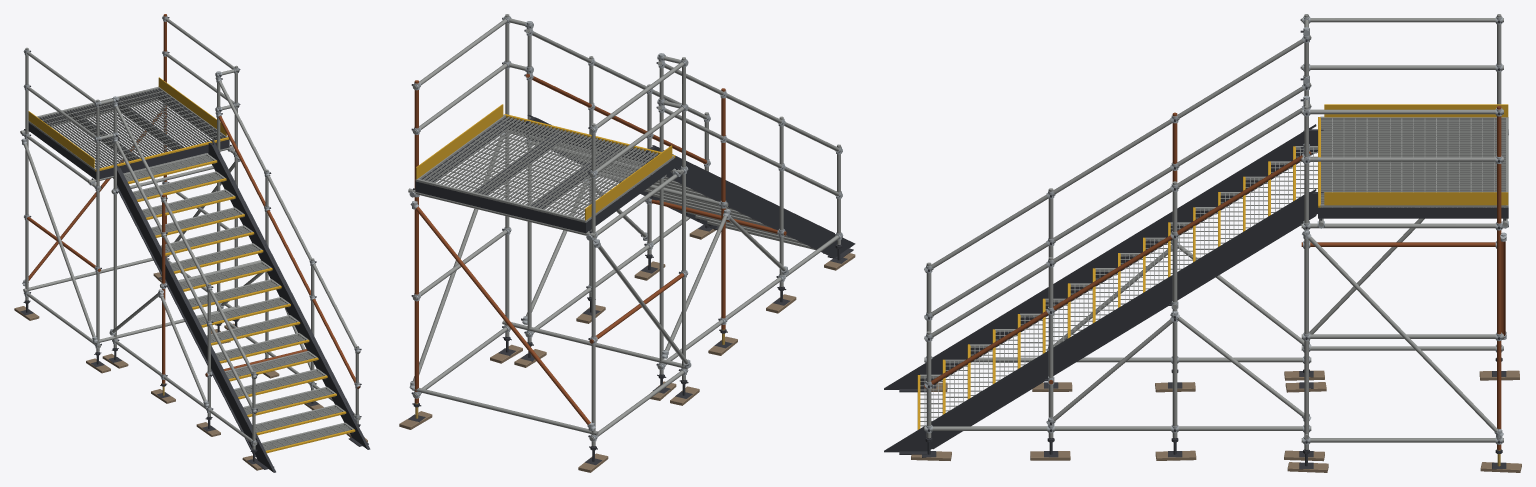
File: deco_stair_metal_scaffold.fbx
3 renders of one model, left to right at view 1: azimuth 30°, elevation 25°; view 2: azimuth 150°, elevation 25°; view 3: azimuth 270°, elevation 25°, orthographic. The views are drawn at different scales.
Parts seen in each view (by area): view 1: Stair_MetalScaffold_Tubes, Stair_MetalScaffold_Treads, Stair_MetalScaffold_Landing, Stair_MetalScaffold_Stringers, Stair_MetalScaffold_BasePlates, Stair_MetalScaffold_Clamps; view 2: Stair_MetalScaffold_Tubes, Stair_MetalScaffold_Landing, Stair_MetalScaffold_Stringers, Stair_MetalScaffold_BasePlates, Stair_MetalScaffold_Clamps, Stair_MetalScaffold_Treads; view 3: Stair_MetalScaffold_Tubes, Stair_MetalScaffold_Landing, Stair_MetalScaffold_Stringers, Stair_MetalScaffold_Treads, Stair_MetalScaffold_BasePlates, Stair_MetalScaffold_Clamps.
Part boxes in pixels (box(x1,y1,x2,y2)): Stair_MetalScaffold_Tubes: box(20, 14, 360, 449); Stair_MetalScaffold_Treads: box(124, 154, 355, 453); Stair_MetalScaffold_Landing: box(28, 77, 229, 179); Stair_MetalScaffold_Stringers: box(113, 139, 370, 472); Stair_MetalScaffold_BasePlates: box(14, 272, 367, 470); Stair_MetalScaffold_Clamps: box(21, 15, 361, 445); Stair_MetalScaffold_Tubes: box(408, 14, 840, 446); Stair_MetalScaffold_Landing: box(415, 104, 675, 233); Stair_MetalScaffold_Stringers: box(526, 114, 855, 258); Stair_MetalScaffold_BasePlates: box(399, 224, 855, 472); Stair_MetalScaffold_Clamps: box(409, 16, 843, 441); Stair_MetalScaffold_Treads: box(532, 139, 823, 253); Stair_MetalScaffold_Tubes: box(924, 14, 1507, 449); Stair_MetalScaffold_Landing: box(1318, 104, 1508, 218); Stair_MetalScaffold_Stringers: box(884, 124, 1323, 454); Stair_MetalScaffold_Treads: box(917, 146, 1317, 429); Stair_MetalScaffold_BasePlates: box(911, 357, 1521, 472); Stair_MetalScaffold_Clamps: box(924, 16, 1508, 444).
Size of the model in its own units: 247 by 419 by 669.
